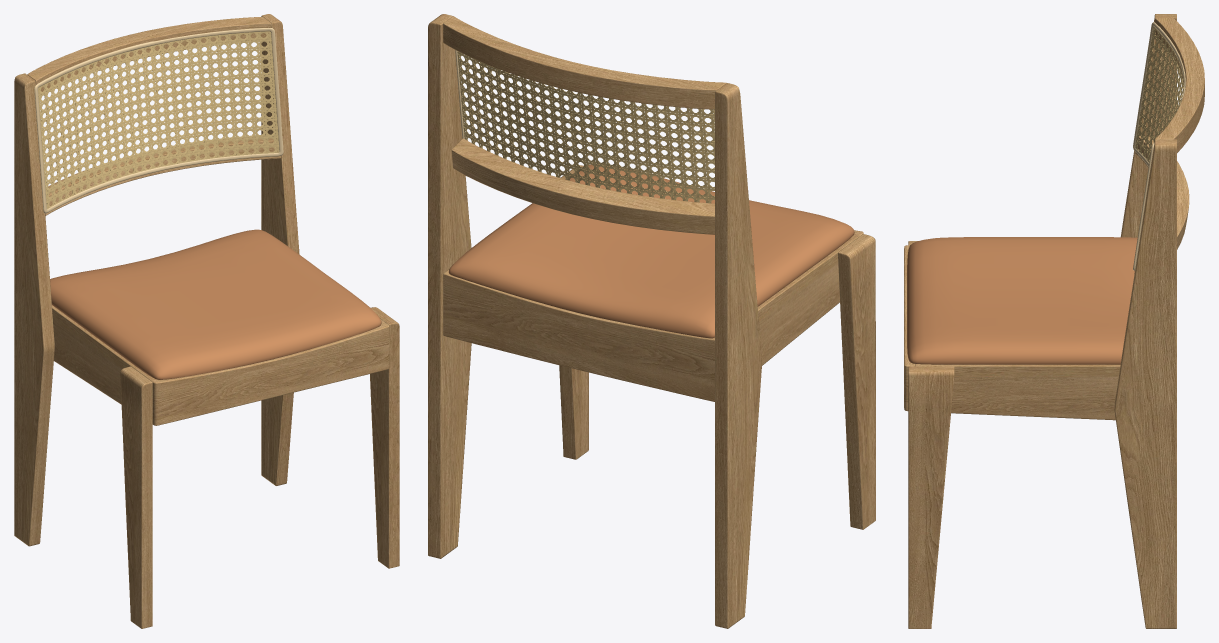
3 views of the same model, side by side, from view 1: azimuth 30°, elevation 25°; view 2: azimuth 150°, elevation 25°; view 3: azimuth 270°, elevation 25° (orthographic). The views are drawn at different scales.
Visible parts, largest first — view 1: 4, 7, 2, 3; view 2: 4, 7, 2; view 3: 4, 7, 2, 3.
Part boxes in pixels (x1=…): 4: x1=14, y1=14, x2=399, y2=628; 7: x1=50, y1=229, x2=381, y2=379; 2: x1=38, y1=31, x2=279, y2=208; 3: x1=34, y1=27, x2=283, y2=213; 4: x1=428, y1=14, x2=875, y2=628; 7: x1=448, y1=163, x2=854, y2=338; 2: x1=457, y1=51, x2=714, y2=203; 4: x1=904, y1=14, x2=1204, y2=628; 7: x1=907, y1=237, x2=1137, y2=364; 2: x1=1135, y1=27, x2=1183, y2=162; 3: x1=1133, y1=22, x2=1185, y2=270.
Size of the model in its own units: 0.4701 by 0.8 by 0.4501.
Materials: 4 (1 with a texture image).
